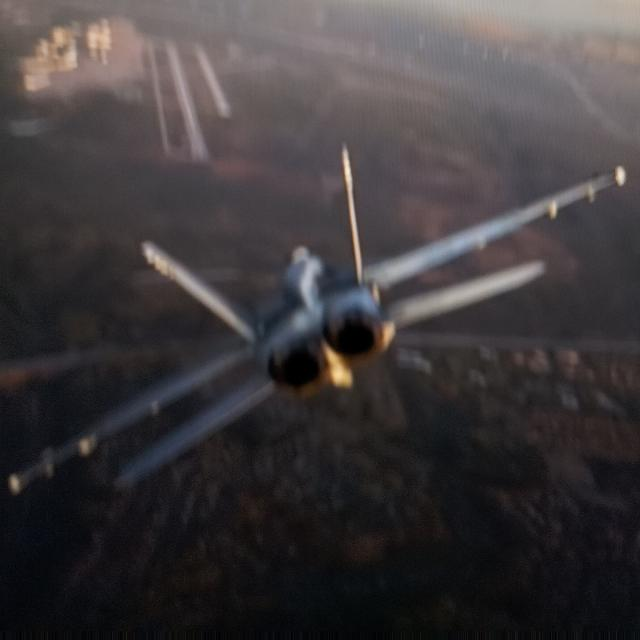iha: (10, 148, 630, 492)
